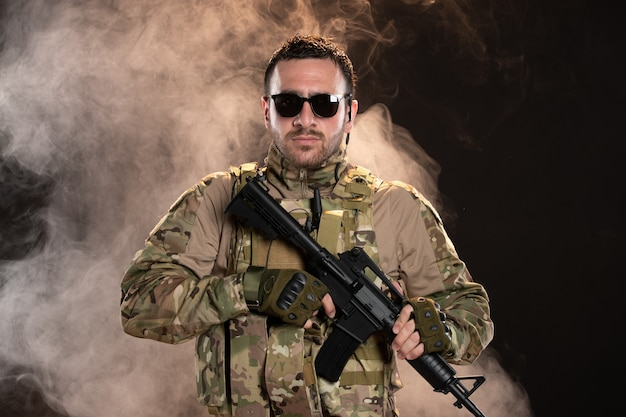gun: (218, 172, 488, 417)
